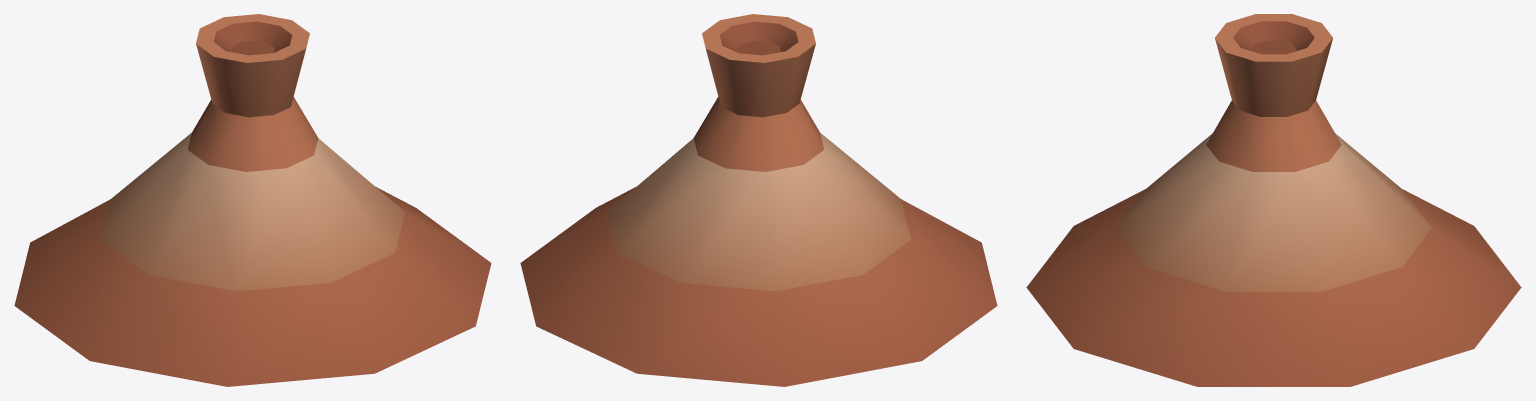
File: tajine-lid.glb
The picture shows the model from 3 angles, left to right: view 1: azimuth 30°, elevation 25°; view 2: azimuth 150°, elevation 25°; view 3: azimuth 270°, elevation 25°; orthographic projection.
Parts seen in each view (by area): view 1: tajine-lid; view 2: tajine-lid; view 3: tajine-lid.
Part boxes in pixels (bbox=[...]): tajine-lid: bbox=[14, 14, 491, 386]; tajine-lid: bbox=[520, 14, 997, 386]; tajine-lid: bbox=[1026, 14, 1521, 386].
Size of the model in its own units: 0.7555 by 0.442 by 0.7943.
